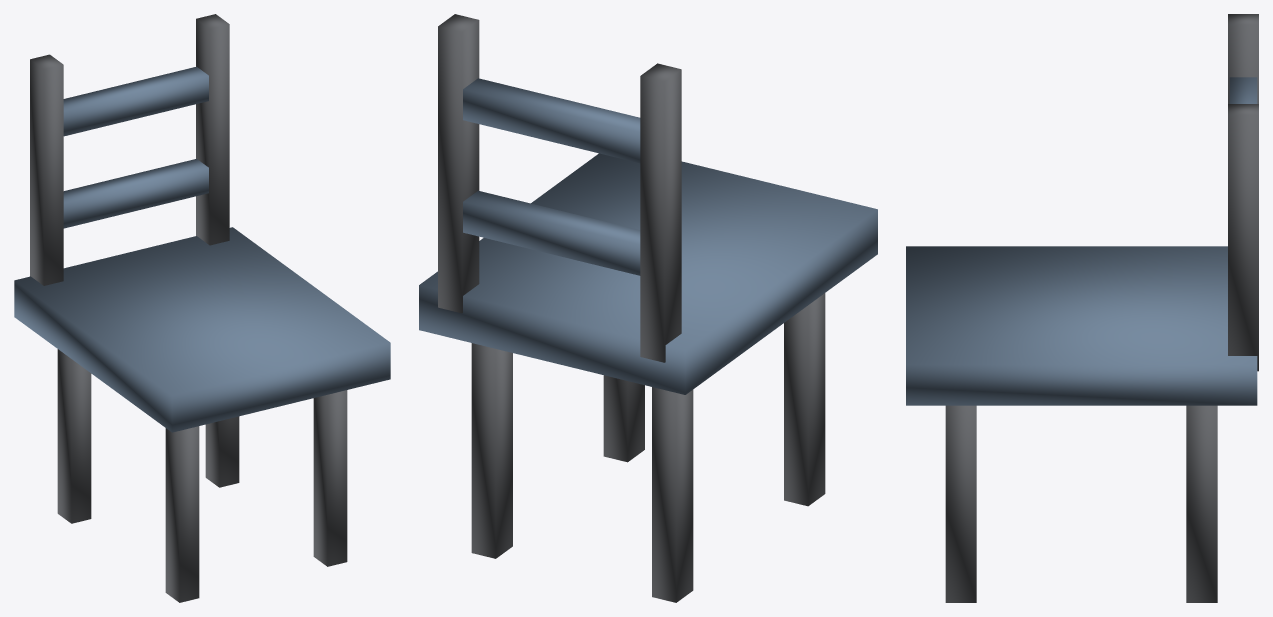
Rendered from station_bench__deep.glb.
3 renders of one model, left to right at view 1: azimuth 30°, elevation 25°; view 2: azimuth 150°, elevation 25°; view 3: azimuth 270°, elevation 25°, orthographic. The views are drawn at different scales.
Parts seen in each view (by area): view 1: world; view 2: world; view 3: world.
Boxes of the visible parts, x1,y1,x2,y2 form: world: [14, 14, 390, 602]; world: [419, 14, 877, 602]; world: [906, 14, 1258, 602].
Size of the model in its own units: 0.4959 by 0.9614 by 0.6236.
